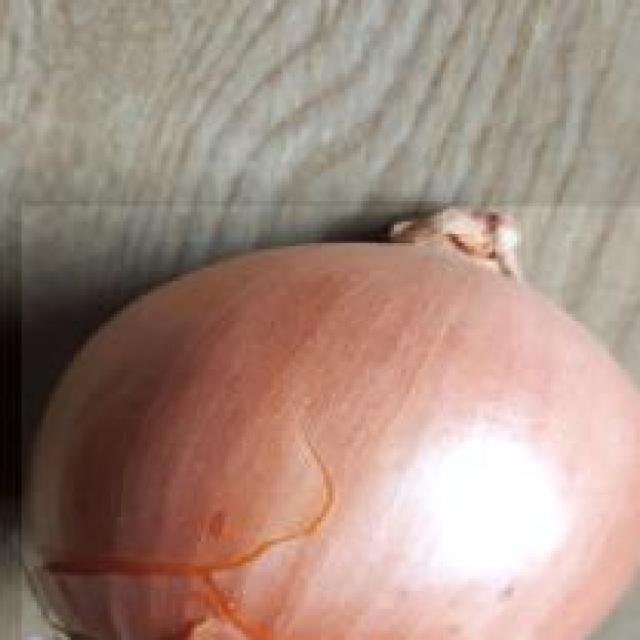onion: (15, 203, 640, 640)
